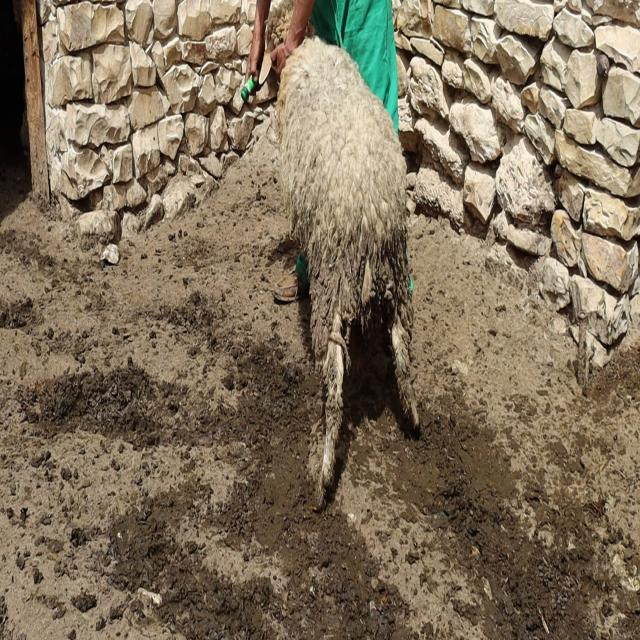Score_2: (271, 37, 419, 507)
